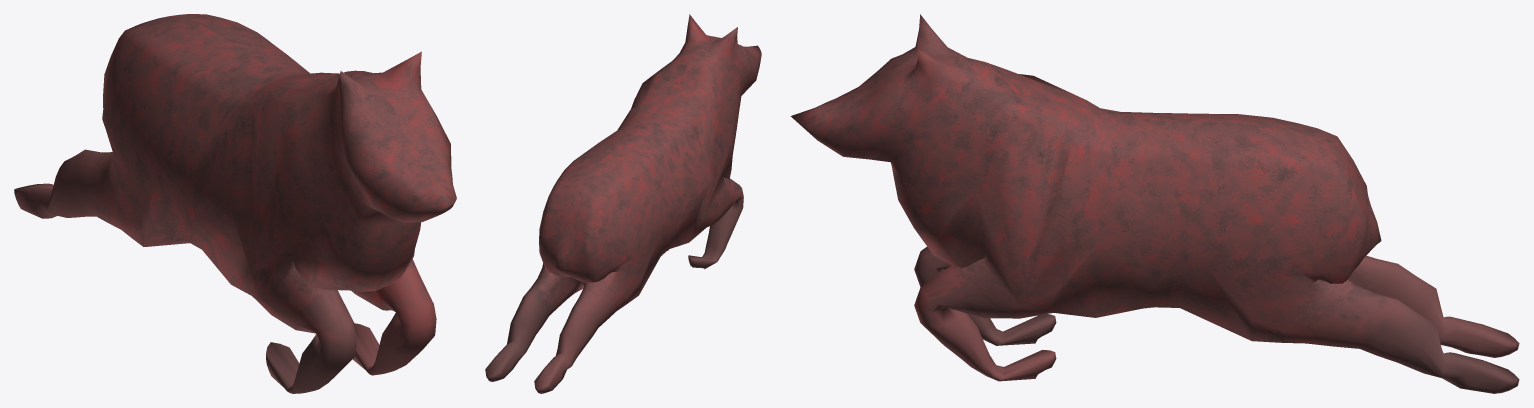
Rendered from piesblend_000018.obj.
3 renders of one model, left to right at view 1: azimuth 30°, elevation 25°; view 2: azimuth 150°, elevation 25°; view 3: azimuth 270°, elevation 25°, orthographic. The views are drawn at different scales.
Parts seen in each view (by area): view 1: Cube; view 2: Cube; view 3: Cube.
Part boxes in pixels (bbox=[...]): Cube: bbox=[14, 14, 456, 393]; Cube: bbox=[485, 14, 761, 393]; Cube: bbox=[790, 14, 1519, 393].
Bounding box in the file's own units: 2.55 × 5.55 × 10.7.
Materials: 1 (1 with a texture image).
